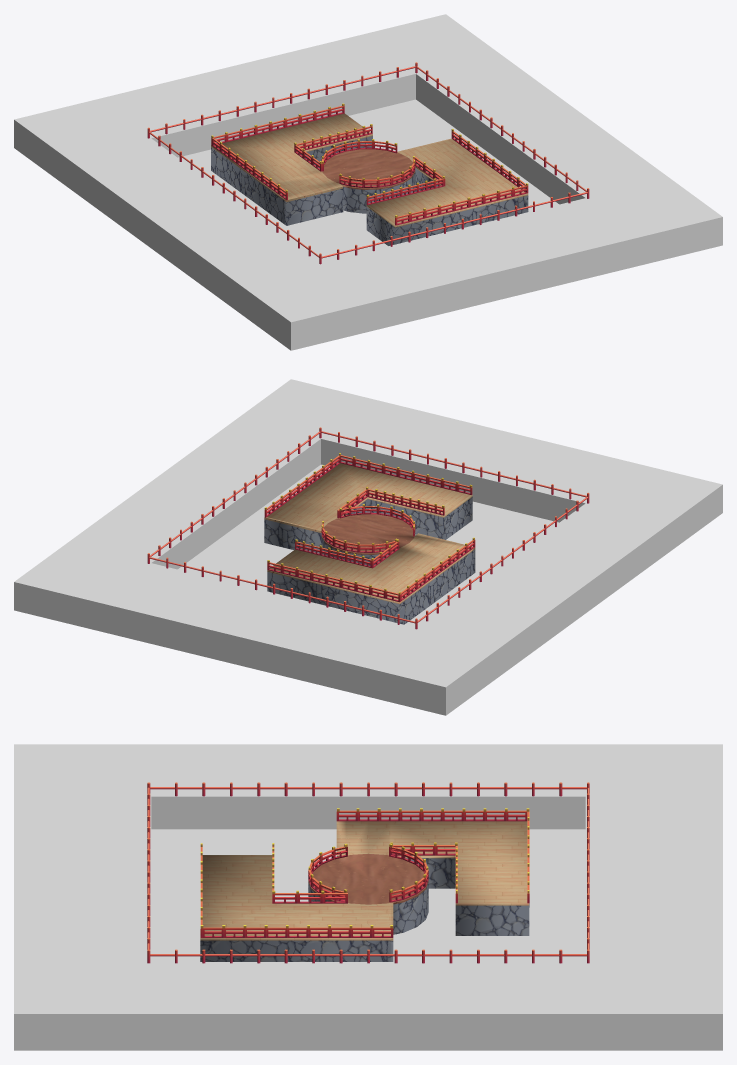
The model's file is Battle_Stage 24.fbx.
3 renders of one model, top to bottom at view 1: azimuth 30°, elevation 25°; view 2: azimuth 150°, elevation 25°; view 3: azimuth 270°, elevation 25°, orthographic. The views are drawn at different scales.
Visible parts, largest first — view 1: Plane.060, Ice, Cube.095, Cube.084, Ice.001; view 2: Plane.060, Ice, Cube.095, Cube.084, Ice.001; view 3: Plane.060, Ice, Cube.095, Cube.084, Ice.001.
Boxes of the visible parts, x1=… form: Plane.060: x1=14, y1=14, x2=722, y2=350; Ice: x1=211, y1=113, x2=528, y2=245; Cube.095: x1=211, y1=103, x2=528, y2=225; Cube.084: x1=147, y1=62, x2=589, y2=264; Ice.001: x1=322, y1=149, x2=412, y2=187; Plane.060: x1=14, y1=379, x2=722, y2=715; Ice: x1=264, y1=463, x2=475, y2=624; Cube.095: x1=264, y1=453, x2=475, y2=602; Cube.084: x1=147, y1=427, x2=589, y2=629; Ice.001: x1=324, y1=514, x2=415, y2=552; Plane.060: x1=14, y1=744, x2=722, y2=1050; Ice: x1=200, y1=821, x2=529, y2=961; Cube.095: x1=200, y1=808, x2=529, y2=937; Cube.084: x1=147, y1=782, x2=589, y2=963; Ice.001: x1=312, y1=853, x2=424, y2=938.
Bounding box in the file's own units: 15879 × 1346 × 17644.
